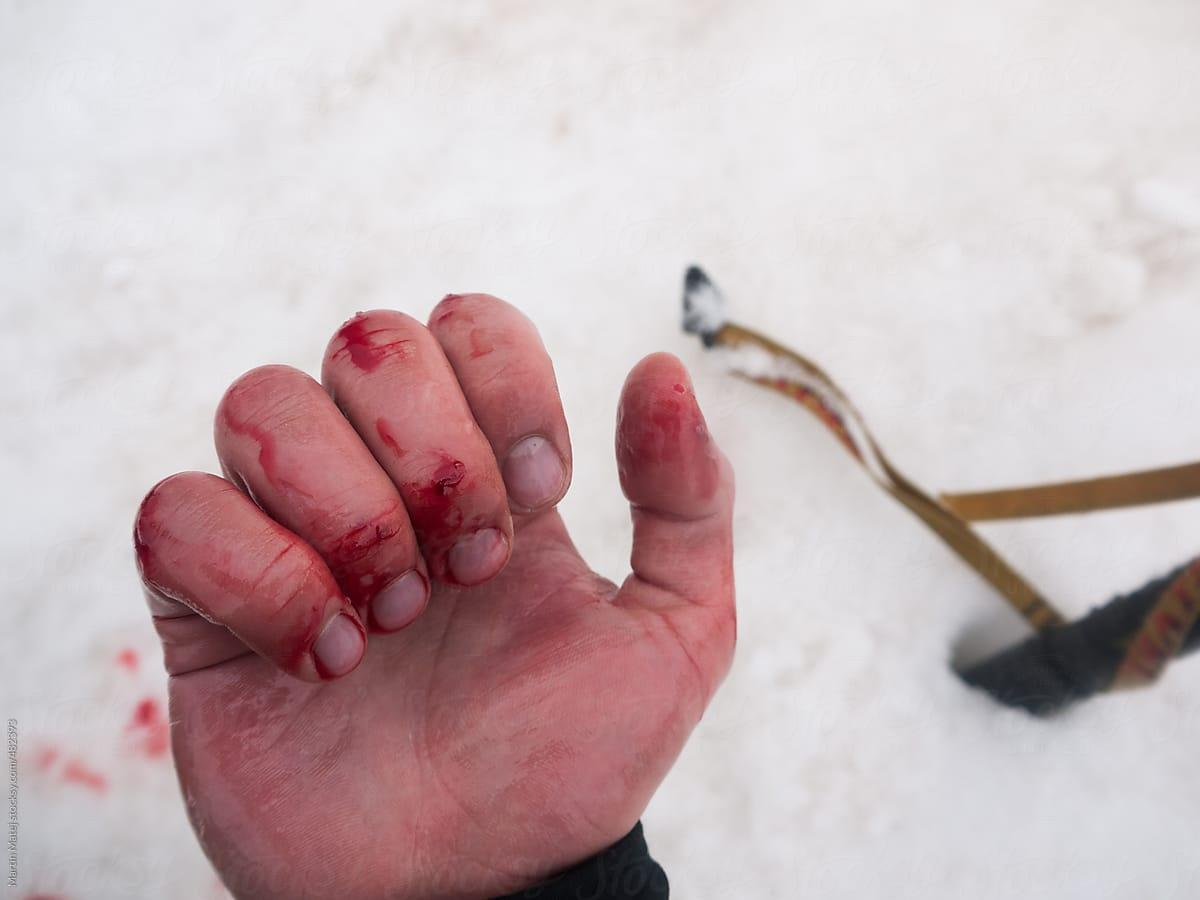Fire: (215, 364, 429, 630), (134, 472, 366, 682), (321, 310, 456, 410), (379, 448, 478, 584)
